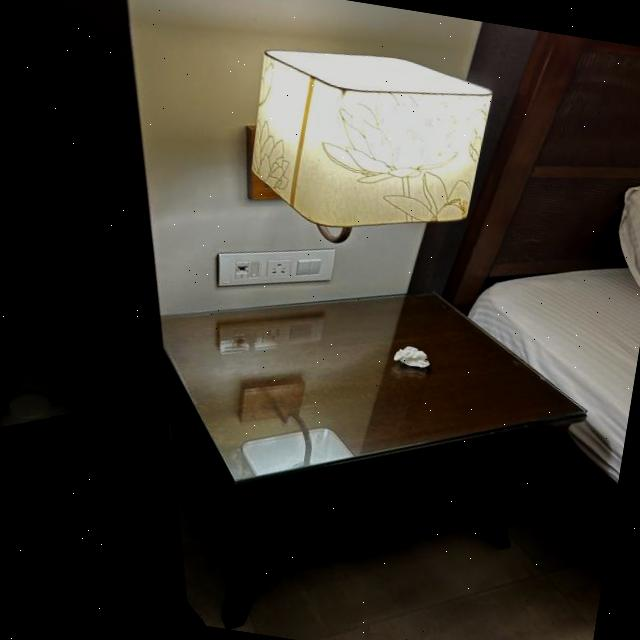lamp: (222, 31, 500, 272)
mess: (389, 335, 454, 384)
messy_table: (158, 295, 585, 629)
